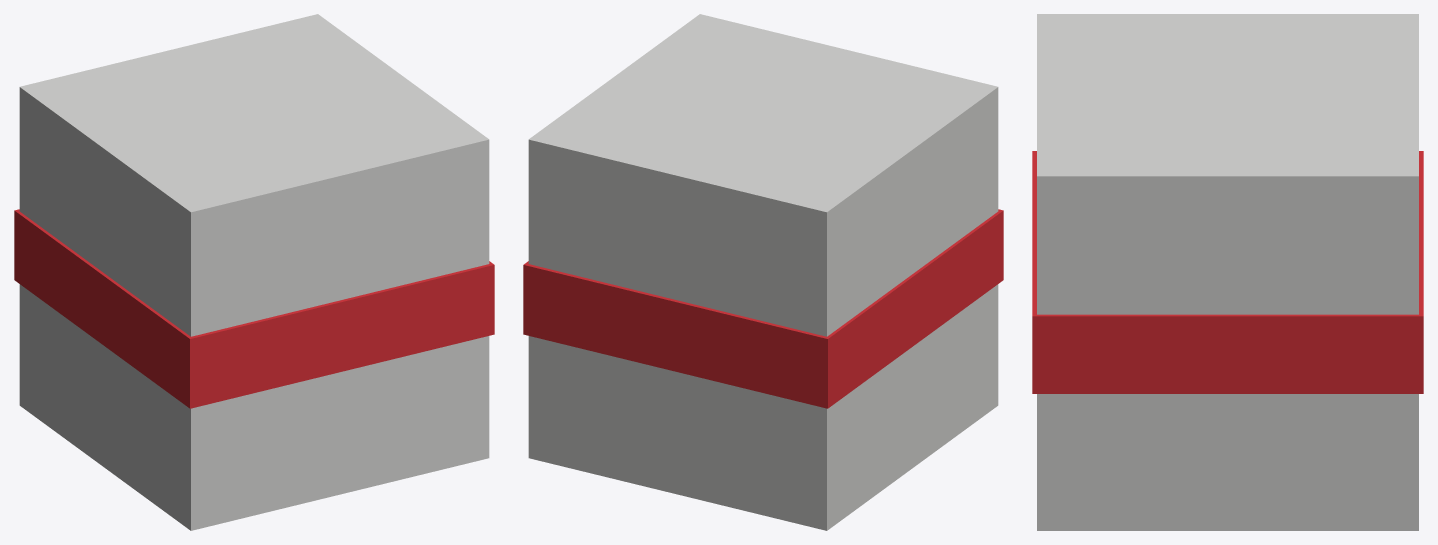
Rendered from caja_pt.glb.
3 views of the same model, side by side, from view 1: azimuth 30°, elevation 25°; view 2: azimuth 150°, elevation 25°; view 3: azimuth 270°, elevation 25° (orthographic). The views are drawn at different scales.
Parts seen in each view (by area): view 1: Caja_PT; view 2: Caja_PT; view 3: Caja_PT.
Part boxes in pixels (left/top/right/bottom): Caja_PT: left=14, top=14, right=494, bottom=530; Caja_PT: left=523, top=14, right=1003, bottom=530; Caja_PT: left=1032, top=14, right=1423, bottom=530.
Size of the model in its own units: 1 by 1 by 1.
